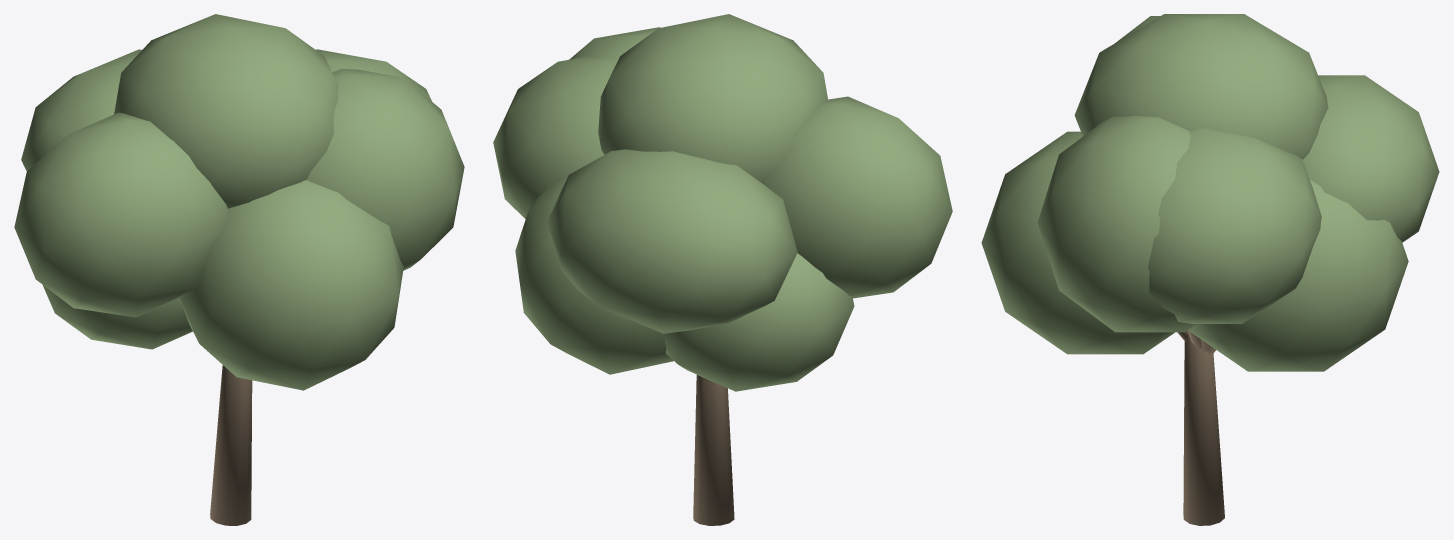
Rendered from SM_OrchardTree3.fbx.
The picture shows the model from 3 angles, left to right: view 1: azimuth 30°, elevation 25°; view 2: azimuth 150°, elevation 25°; view 3: azimuth 270°, elevation 25°; orthographic projection.
Visible parts, largest first — view 1: SM_OrchardTree3; view 2: SM_OrchardTree3; view 3: SM_OrchardTree3.
Part boxes in pixels (<box>): SM_OrchardTree3: <box>14,14,464,525</box>; SM_OrchardTree3: <box>493,14,952,525</box>; SM_OrchardTree3: <box>981,14,1439,525</box>.
Size of the model in its own units: 633 by 600 by 716.
